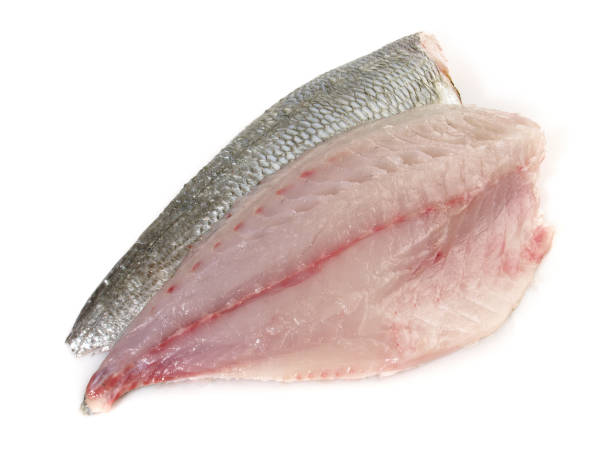bream-fish: (79, 103, 558, 417)
